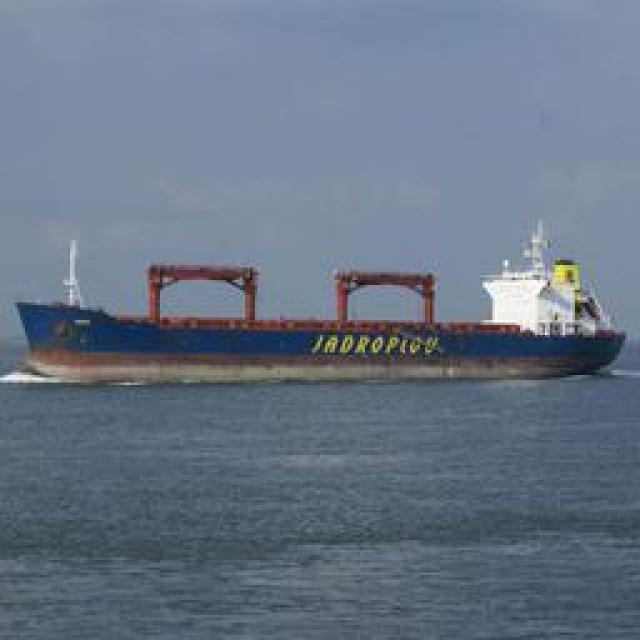CIV_Ship: (15, 242, 618, 386)
